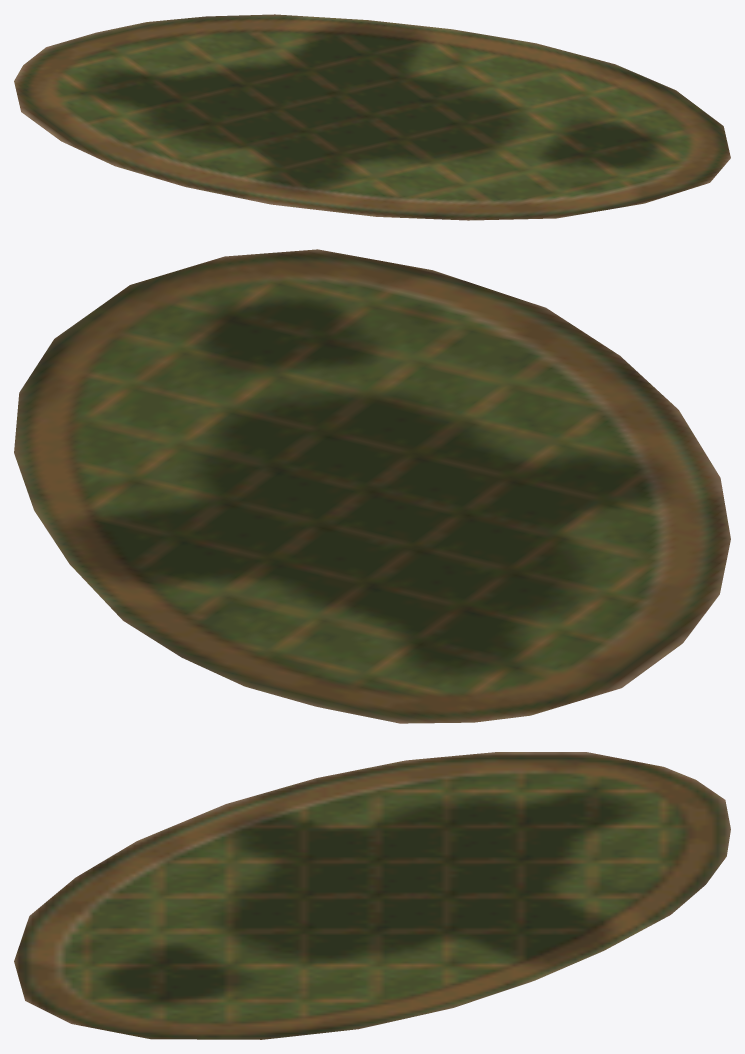
The picture shows the model from 3 angles, top to bottom: view 1: azimuth 30°, elevation 25°; view 2: azimuth 150°, elevation 25°; view 3: azimuth 270°, elevation 25°; orthographic projection. The views are drawn at different scales.
Visible parts, largest first — view 1: Line01; view 2: Line01; view 3: Line01.
Part boxes in pixels (bbox=[...]): Line01: bbox=[14, 14, 730, 220]; Line01: bbox=[14, 249, 730, 723]; Line01: bbox=[14, 752, 730, 1039].
Bounding box in the file's own units: 597 × 0 × 629.
1 material, 1 textured.
